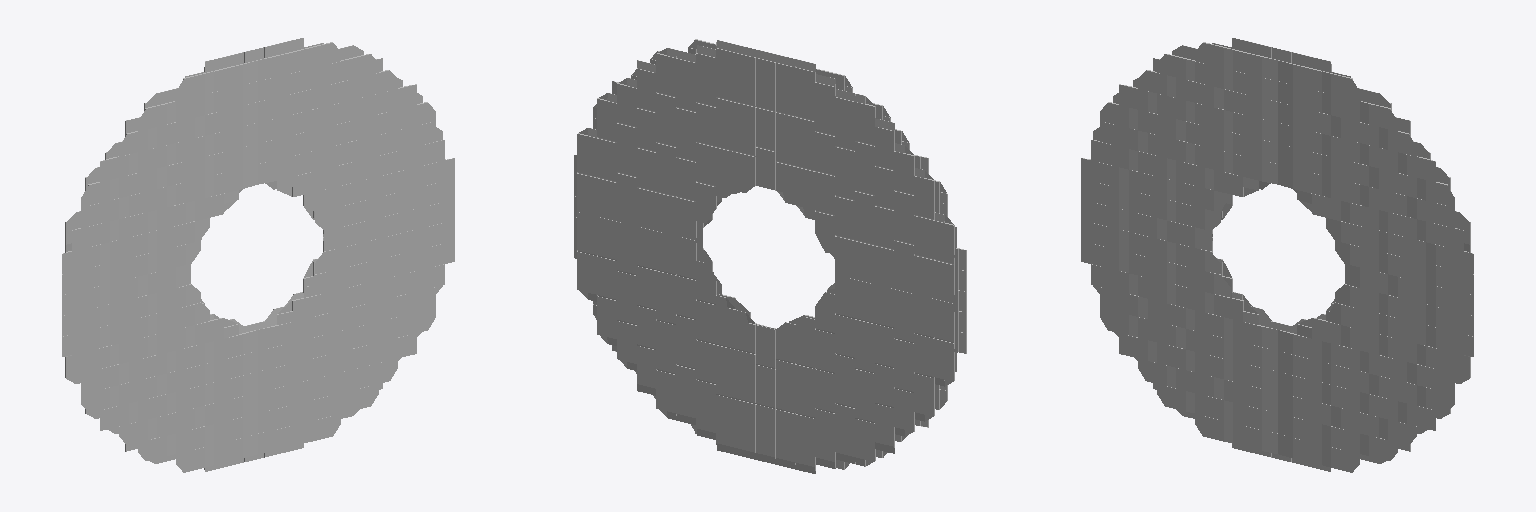
The model's file is ESplus.obj.
The picture shows the model from 3 angles: view 1: azimuth 30°, elevation 25°; view 2: azimuth 150°, elevation 25°; view 3: azimuth 330°, elevation 25°; orthographic projection.
Parts seen in each view (by area): view 1: Mesh75 esalgo_SFLX0a_materials_E_Air32 lp_esalgo_SFLY0a33 Model, Mesh97 esalgo_SFLX0a_materials_E_Air43 lp_esalgo_SFLY0a44 Model, Mesh11 esalgo_SFLX0a_materials_E_Air3 lp_esalgo_SFLY0a4 Model, Mesh371 esalgo_SFLX0b_materials_E_Air3 lp_esalgo_SFLY0b2 Model, Mesh77 esalgo_SFLX0a_materials_E_Air33 lp_esalgo_SFLY0a34 Model, Mesh349 esalgo_SFLX0c_materials_E_Air2 lp_esalgo_SFLY0c1 Model, Mesh351 esalgo_SFLX0c_materials_E_Air3 lp_esalgo_SFLY0c2 Model, Mesh369 esalgo_SFLX0b_materials_E_Air2 lp_esalgo_SFLY0b1 Model, Mesh61 esalgo_SFLX0a_materials_E_Air25 lp_esalgo_SFLY0a26 Model, Mesh67 esalgo_SFLX0a_materials_E_Air28 lp_esalgo_SFLY0a29 Model, Mesh99 esalgo_SFLX0a_materials_E_Air44 lp_esalgo_SFLY0a45 Model, Mesh25 esalgo_SFLX0a_materials_E_Air10 lp_esalgo_SFLY0a11 Model (+28 smaller); view 2: Mesh109 esalgo_SFLX0a_materials_E_Air49 lp_esalgo_SFLX0a4 Model, Mesh113 esalgo_SFLX0a_materials_E_Air51 lp_esalgo_SFLX0a6 Model, Mesh305 esalgo_SFLX0a_materials_E_Air70 lp_esalgo_SFLX0a25 Model, Mesh301 esalgo_SFLX0a_materials_E_Air68 lp_esalgo_SFLX0a23 Model, Mesh121 esalgo_SFLX0a_materials_E_Air55 lp_esalgo_SFLX0a10 Model, Mesh313 esalgo_SFLX0a_materials_E_Air74 lp_esalgo_SFLX0a29 Model, Mesh321 esalgo_SFLX0a_materials_E_Air78 lp_esalgo_SFLX0a33 Model, Mesh325 esalgo_SFLX0a_materials_E_Air80 lp_esalgo_SFLX0a35 Model, Mesh107 esalgo_SFLX0a_materials_E_Air48 lp_esalgo_SFLX0a3 Model, Mesh111 esalgo_SFLX0a_materials_E_Air50 lp_esalgo_SFLX0a5 Model, Mesh307 esalgo_SFLX0a_materials_E_Air71 lp_esalgo_SFLX0a26 Model, Mesh303 esalgo_SFLX0a_materials_E_Air69 lp_esalgo_SFLX0a24 Model (+28 smaller); view 3: Mesh77 esalgo_SFLX0a_materials_E_Air33 lp_esalgo_SFLY0a34 Model, Mesh11 esalgo_SFLX0a_materials_E_Air3 lp_esalgo_SFLY0a4 Model, Mesh97 esalgo_SFLX0a_materials_E_Air43 lp_esalgo_SFLY0a44 Model, Mesh75 esalgo_SFLX0a_materials_E_Air32 lp_esalgo_SFLY0a33 Model, Mesh351 esalgo_SFLX0c_materials_E_Air3 lp_esalgo_SFLY0c2 Model, Mesh369 esalgo_SFLX0b_materials_E_Air2 lp_esalgo_SFLY0b1 Model, Mesh371 esalgo_SFLX0b_materials_E_Air3 lp_esalgo_SFLY0b2 Model, Mesh349 esalgo_SFLX0c_materials_E_Air2 lp_esalgo_SFLY0c1 Model, Mesh61 esalgo_SFLX0a_materials_E_Air25 lp_esalgo_SFLY0a26 Model, Mesh67 esalgo_SFLX0a_materials_E_Air28 lp_esalgo_SFLY0a29 Model, Mesh101 esalgo_SFLX0a_materials_E_Air45 lp_esalgo_SFLY0a46 Model, Mesh59 esalgo_SFLX0a_materials_E_Air24 lp_esalgo_SFLY0a25 Model (+28 smaller).
Part boxes in pixels (x1,y1,x2,y2): Mesh75 esalgo_SFLX0a_materials_E_Air32 lp_esalgo_SFLY0a33 Model: (258,89,311,121); Mesh97 esalgo_SFLX0a_materials_E_Air43 lp_esalgo_SFLY0a44 Model: (258,380,311,412); Mesh11 esalgo_SFLX0a_materials_E_Air3 lp_esalgo_SFLY0a4 Model: (205,392,257,425); Mesh371 esalgo_SFLX0b_materials_E_Air3 lp_esalgo_SFLY0b2 Model: (305,264,359,297); Mesh77 esalgo_SFLX0a_materials_E_Air33 lp_esalgo_SFLY0a34 Model: (205,102,257,135); Mesh349 esalgo_SFLX0c_materials_E_Air2 lp_esalgo_SFLY0c1 Model: (305,181,359,212); Mesh351 esalgo_SFLX0c_materials_E_Air3 lp_esalgo_SFLY0c2 Model: (157,302,209,333); Mesh369 esalgo_SFLX0b_materials_E_Air2 lp_esalgo_SFLY0b1 Model: (157,218,209,250); Mesh61 esalgo_SFLX0a_materials_E_Air25 lp_esalgo_SFLY0a26 Model: (62,242,109,273); Mesh67 esalgo_SFLX0a_materials_E_Air28 lp_esalgo_SFLY0a29 Model: (407,158,454,189); Mesh99 esalgo_SFLX0a_materials_E_Air44 lp_esalgo_SFLY0a45 Model: (157,406,204,437); Mesh25 esalgo_SFLX0a_materials_E_Air10 lp_esalgo_SFLY0a11 Model: (407,220,454,251); Mesh109 esalgo_SFLX0a_materials_E_Air49 lp_esalgo_SFLX0a4 Model: (795,59,815,120); Mesh113 esalgo_SFLX0a_materials_E_Air51 lp_esalgo_SFLX0a6 Model: (815,74,835,134); Mesh305 esalgo_SFLX0a_materials_E_Air70 lp_esalgo_SFLX0a25 Model: (736,45,755,105); Mesh301 esalgo_SFLX0a_materials_E_Air68 lp_esalgo_SFLX0a23 Model: (756,50,775,110); Mesh121 esalgo_SFLX0a_materials_E_Air55 lp_esalgo_SFLX0a10 Model: (835,89,855,149); Mesh313 esalgo_SFLX0a_materials_E_Air74 lp_esalgo_SFLX0a29 Model: (716,40,735,100); Mesh321 esalgo_SFLX0a_materials_E_Air78 lp_esalgo_SFLX0a33 Model: (696,45,715,105); Mesh325 esalgo_SFLX0a_materials_E_Air80 lp_esalgo_SFLX0a35 Model: (676,50,695,110); Mesh107 esalgo_SFLX0a_materials_E_Air48 lp_esalgo_SFLX0a3 Model: (795,414,815,473); Mesh111 esalgo_SFLX0a_materials_E_Air50 lp_esalgo_SFLX0a5 Model: (815,409,835,468); Mesh307 esalgo_SFLX0a_materials_E_Air71 lp_esalgo_SFLX0a26 Model: (736,400,755,459); Mesh303 esalgo_SFLX0a_materials_E_Air69 lp_esalgo_SFLX0a24 Model: (756,404,775,464); Mesh77 esalgo_SFLX0a_materials_E_Air33 lp_esalgo_SFLY0a34 Model: (1224,89,1277,121); Mesh11 esalgo_SFLX0a_materials_E_Air3 lp_esalgo_SFLY0a4 Model: (1224,380,1277,412); Mesh97 esalgo_SFLX0a_materials_E_Air43 lp_esalgo_SFLY0a44 Model: (1278,392,1330,425); Mesh75 esalgo_SFLX0a_materials_E_Air32 lp_esalgo_SFLY0a33 Model: (1278,102,1330,135); Mesh351 esalgo_SFLX0c_materials_E_Air3 lp_esalgo_SFLY0c2 Model: (1176,264,1230,297); Mesh369 esalgo_SFLX0b_materials_E_Air2 lp_esalgo_SFLY0b1 Model: (1176,181,1230,212); Mesh371 esalgo_SFLX0b_materials_E_Air3 lp_esalgo_SFLY0b2 Model: (1326,302,1378,333); Mesh349 esalgo_SFLX0c_materials_E_Air2 lp_esalgo_SFLY0c1 Model: (1326,218,1378,250); Mesh61 esalgo_SFLX0a_materials_E_Air25 lp_esalgo_SFLY0a26 Model: (1081,158,1128,189); Mesh67 esalgo_SFLX0a_materials_E_Air28 lp_esalgo_SFLY0a29 Model: (1426,242,1473,273); Mesh101 esalgo_SFLX0a_materials_E_Air45 lp_esalgo_SFLY0a46 Model: (1331,406,1378,437); Mesh59 esalgo_SFLX0a_materials_E_Air24 lp_esalgo_SFLY0a25 Model: (1081,220,1128,251).
Size of the model in its own units: 2.52 by 2.52 by 0.0554.